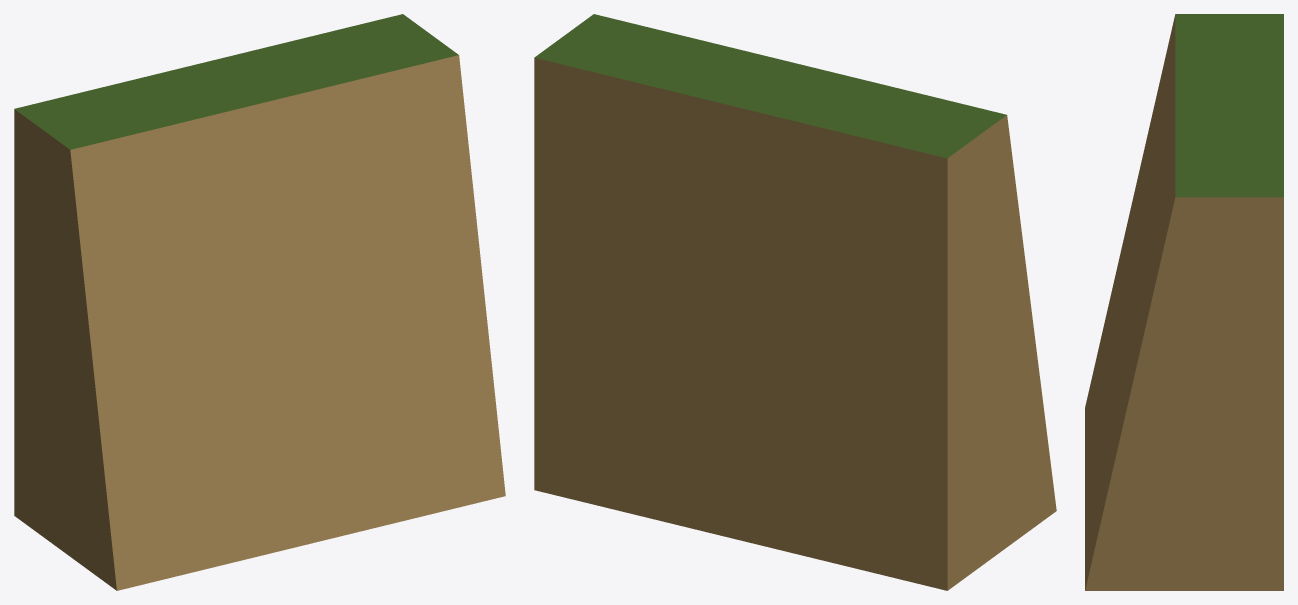
The model's file is Terrain_Tile_Grass_Dirt_Cliff_Face_Angled_02.fbx.
The picture shows the model from 3 angles, left to right: view 1: azimuth 30°, elevation 25°; view 2: azimuth 150°, elevation 25°; view 3: azimuth 270°, elevation 25°; orthographic projection. The views are drawn at different scales.
Parts seen in each view (by area): view 1: Terrain_Tile_Grass_Dirt_Cliff_Face_Angled_02; view 2: Terrain_Tile_Grass_Dirt_Cliff_Face_Angled_02; view 3: Terrain_Tile_Grass_Dirt_Cliff_Face_Angled_02.
Part boxes in pixels (box(x1,y1,x2,y2)): Terrain_Tile_Grass_Dirt_Cliff_Face_Angled_02: box(14, 14, 505, 590); Terrain_Tile_Grass_Dirt_Cliff_Face_Angled_02: box(534, 14, 1056, 590); Terrain_Tile_Grass_Dirt_Cliff_Face_Angled_02: box(1085, 14, 1283, 590).
Size of the model in its own units: 126 by 126 by 57.68.
